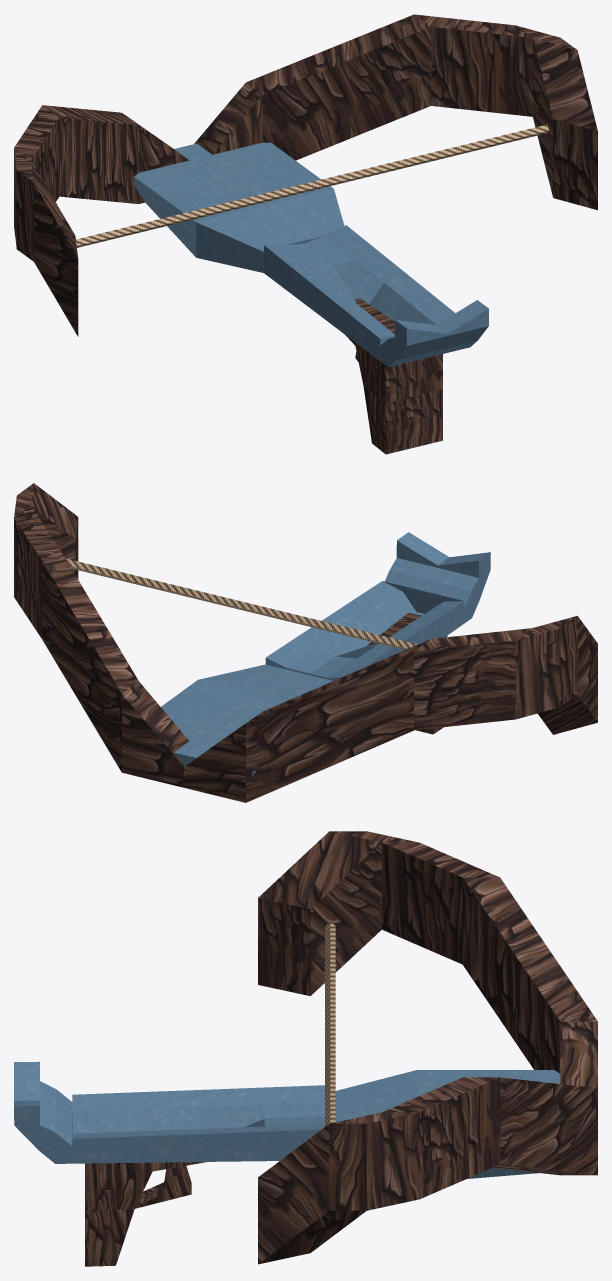
File: CrossBowNext.obj
3 views of the same model, one above another, from view 1: azimuth 30°, elevation 25°; view 2: azimuth 150°, elevation 25°; view 3: azimuth 270°, elevation 25° (orthographic). The views are drawn at different scales.
Parts seen in each view (by area): view 1: Cube_Cube.001; view 2: Cube_Cube.001; view 3: Cube_Cube.001.
Boxes of the visible parts, <box> form: Cube_Cube.001: <box>14,14,597,454</box>; Cube_Cube.001: <box>14,483,597,802</box>; Cube_Cube.001: <box>14,831,597,1266</box>.
Size of the model in its own units: 4.9 by 2.15 by 4.13.
3 materials, 3 textured.
